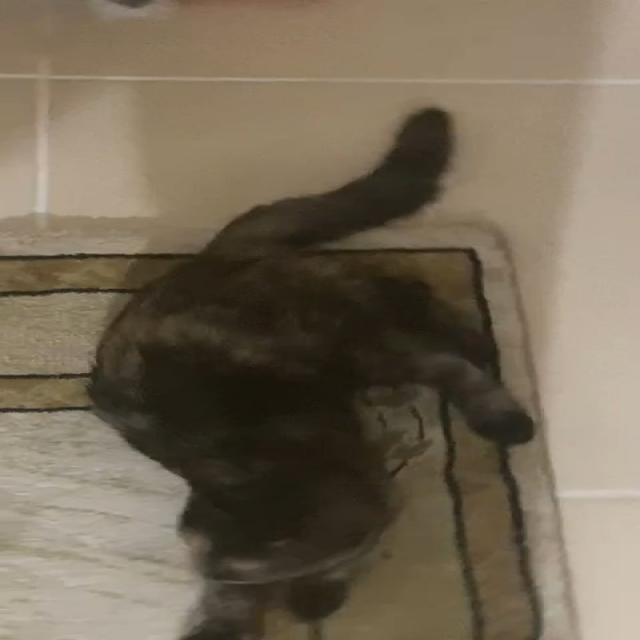authorized: (84, 105, 537, 638)
